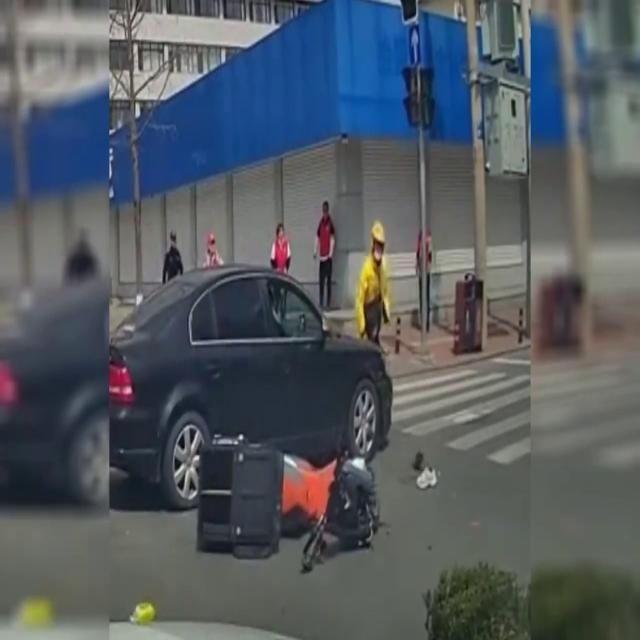multiple_accident: (83, 163, 468, 598)
